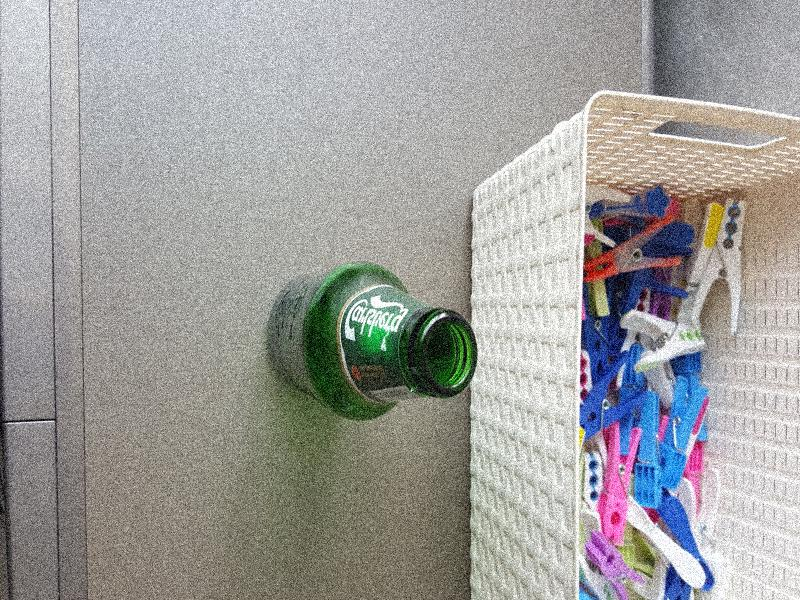Beer: (265, 259, 475, 420)
